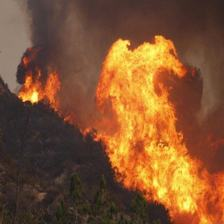fire: (18, 35, 221, 224)
